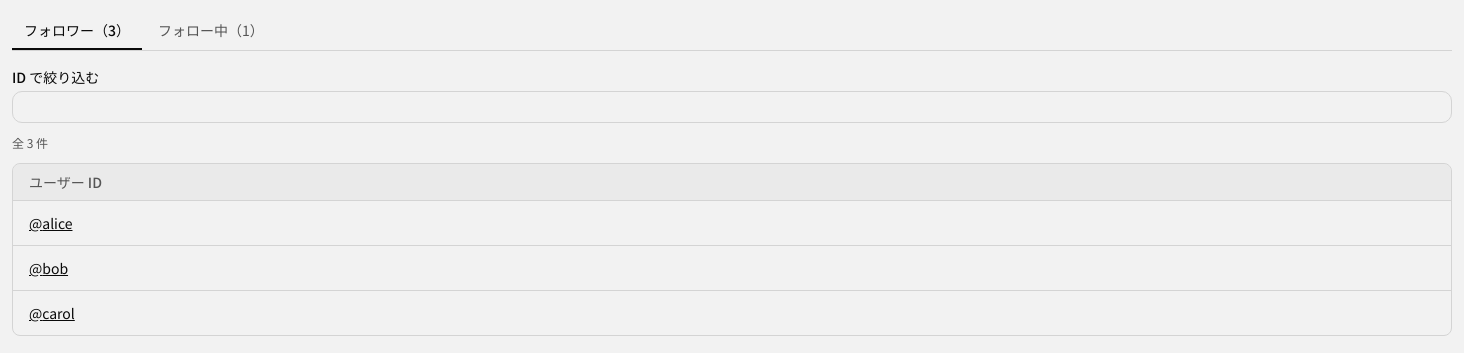
Test: FollowerListView › 該当なしの語では「該当する ID がありません」（US3）
The image size is (1464, 353).
Type "zzz" into the search field labelled "ID で絞り込む" at (732, 107), box 12,91 -> 1452,123
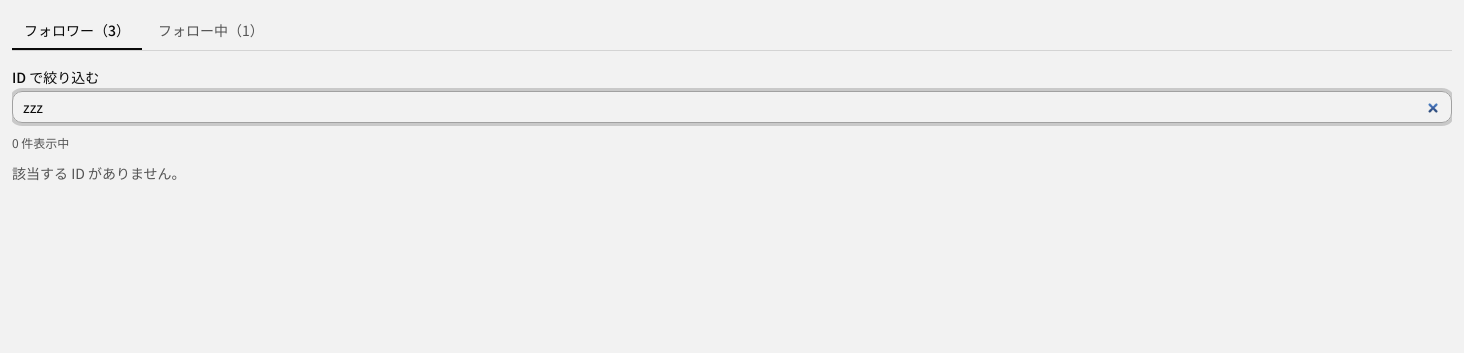
Expected: the text "該当する ID がありません。" is shown, 12,163 -> 186,183
